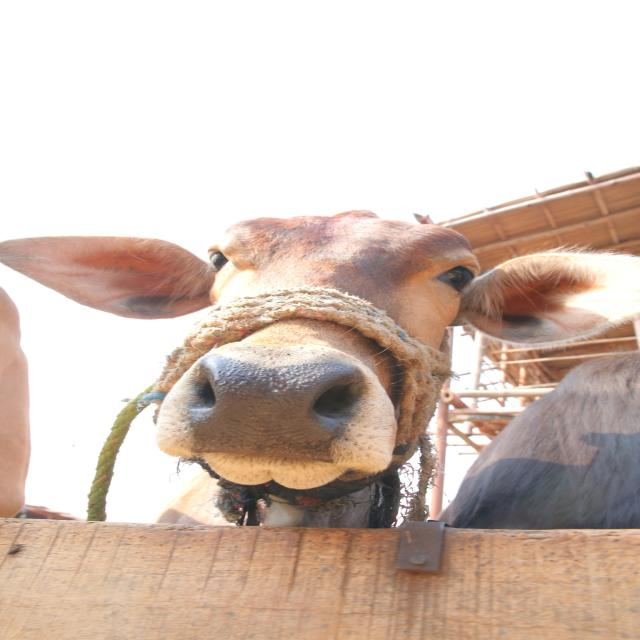muzzles: (185, 344, 372, 466)
